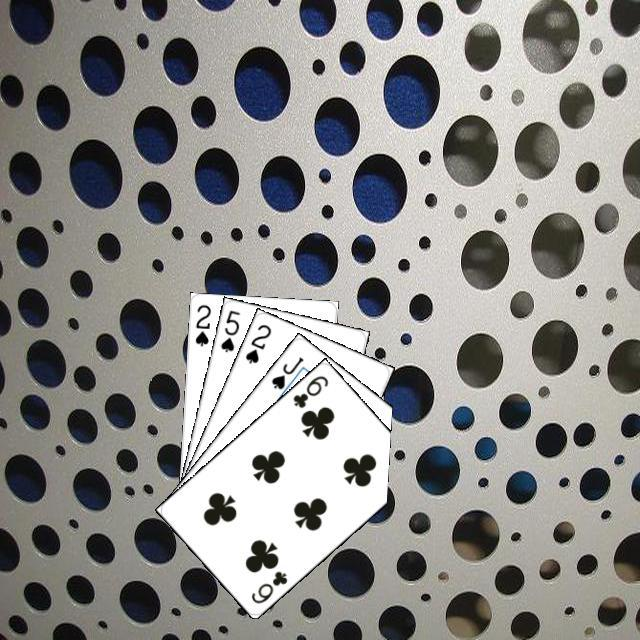2s: (240, 319, 273, 365), (190, 300, 212, 348)
5s: (216, 305, 242, 354)
6c: (246, 566, 289, 606), (288, 370, 330, 410)
Js: (266, 352, 305, 391)
